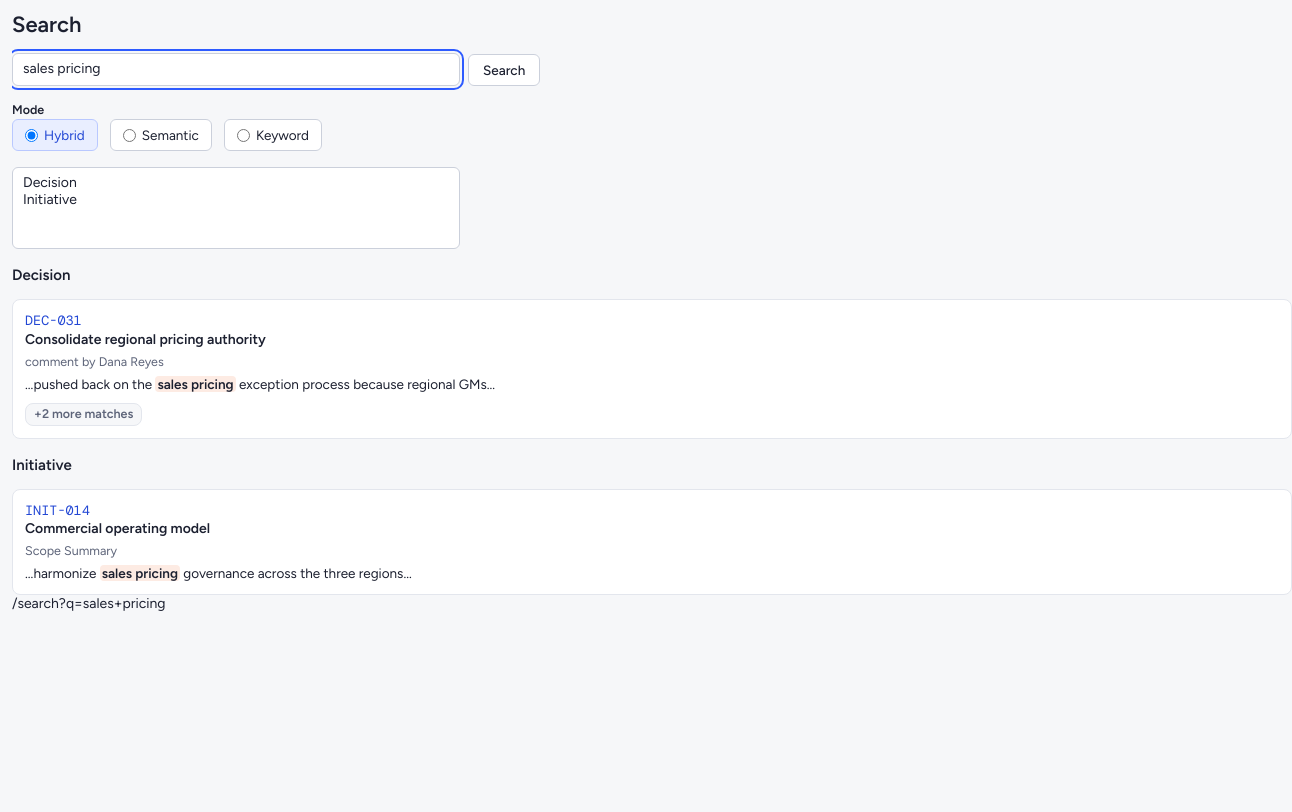
Test: SearchPage › shows the FilterBuilder only when exactly one object type is selected
This screenshot has width=1292, height=812.
Expected: the element with test id "search-result-DEC-031" is shown, [12, 299, 1291, 439]
Select "Initiative" in the dropdown named "Object types". click: (236, 208)
box: [12, 167, 460, 249]
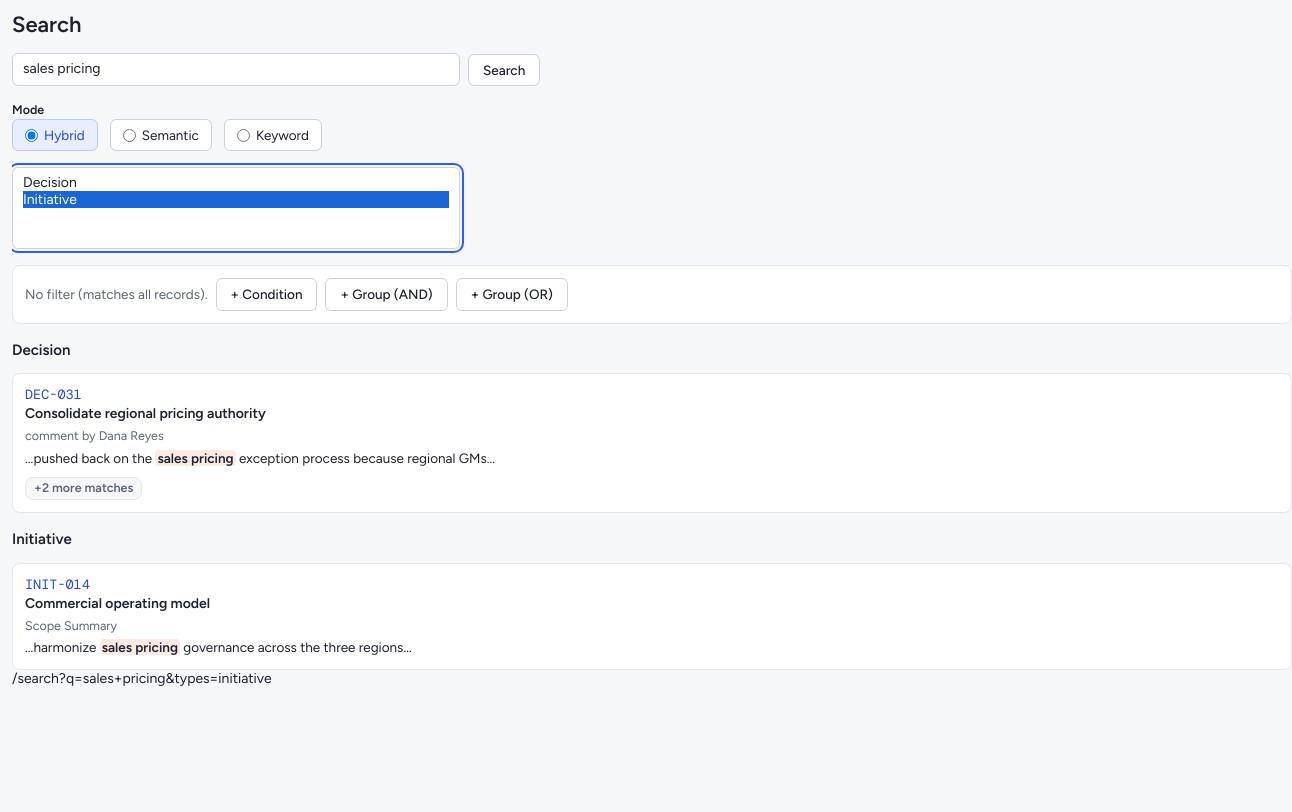
Now the element with test id "filter-builder" is shown, box [12, 265, 1291, 324]
Select "decision, initiative" in the dropdown named "Object types". click: (236, 208)
box: [12, 167, 460, 249]
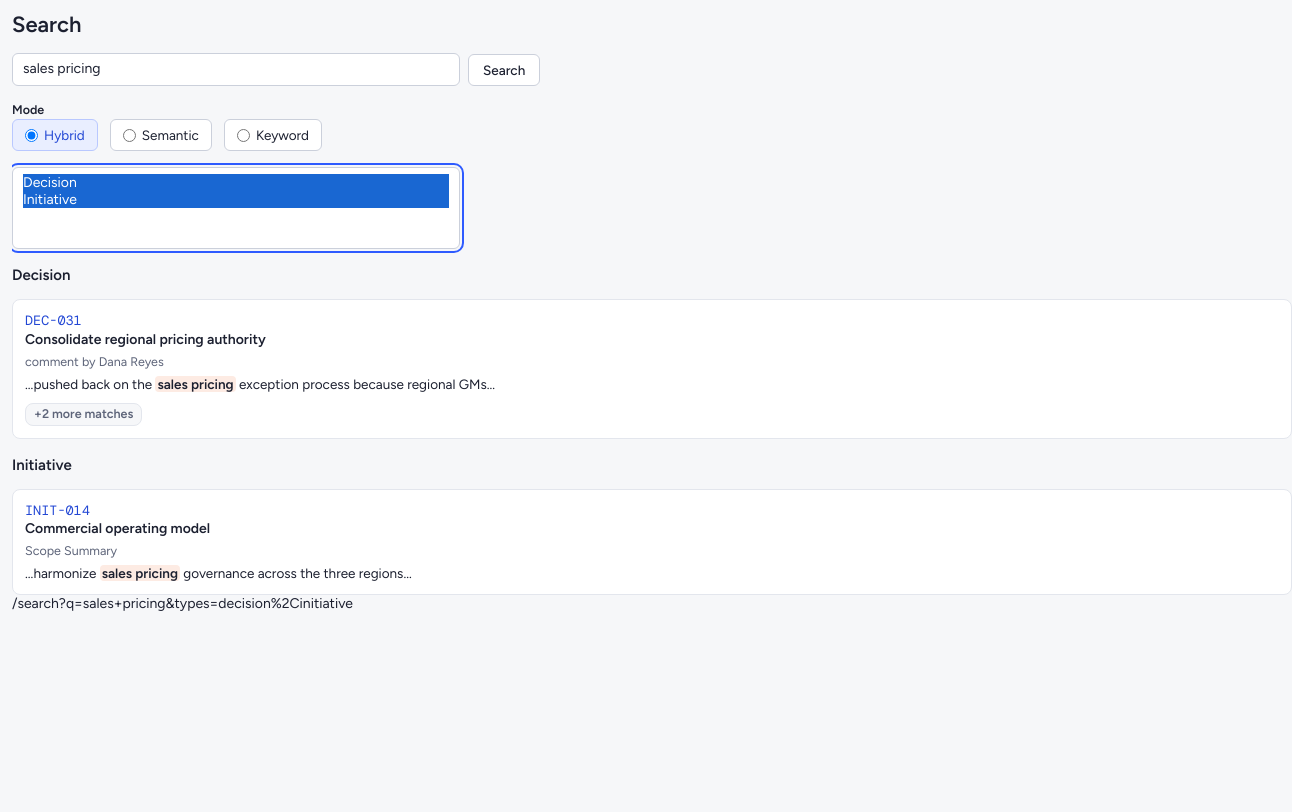
Now the element with test id "filter-builder" is gone
